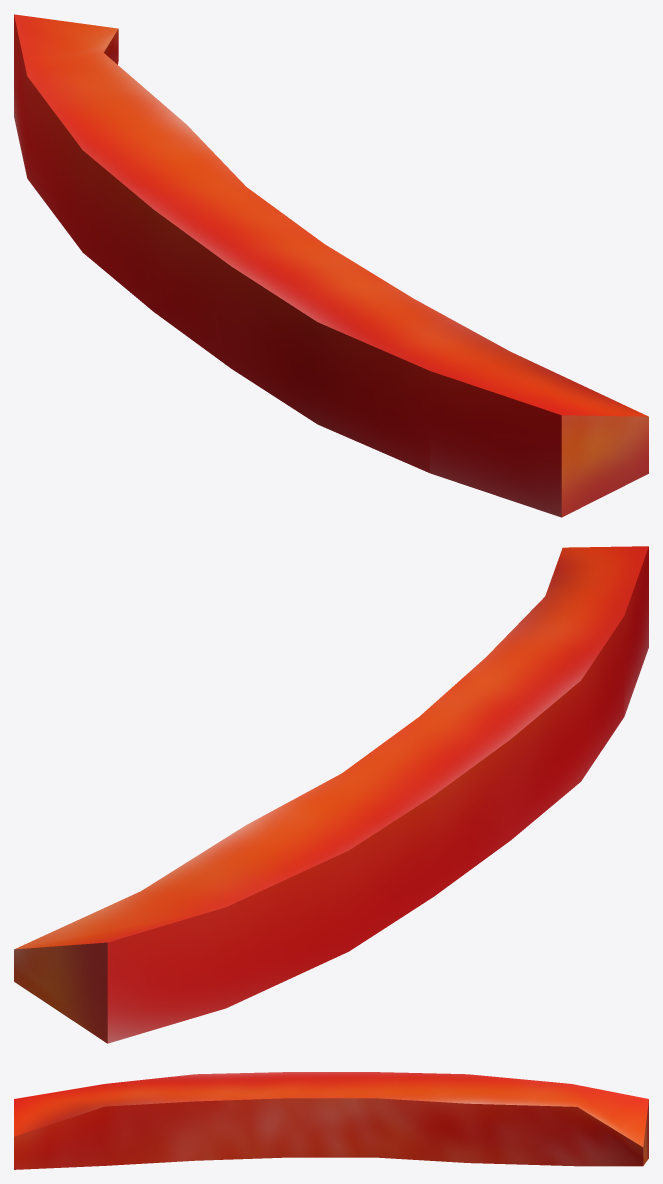
Rendered from SM_PizzaTopping_RedPepper.fbx.
The picture shows the model from 3 angles, top to bottom: view 1: azimuth 30°, elevation 25°; view 2: azimuth 150°, elevation 25°; view 3: azimuth 270°, elevation 25°; orthographic projection. The views are drawn at different scales.
Visible parts, largest first — view 1: SM_PizzaTopping_RedPepper; view 2: SM_PizzaTopping_RedPepper; view 3: SM_PizzaTopping_RedPepper.
Part boxes in pixels (bbox=[...]): SM_PizzaTopping_RedPepper: bbox=[14, 14, 648, 517]; SM_PizzaTopping_RedPepper: bbox=[14, 546, 648, 1043]; SM_PizzaTopping_RedPepper: bbox=[14, 1072, 648, 1169].
Bounding box in the file's own units: 1.19 × 0.5994 × 5.81.
